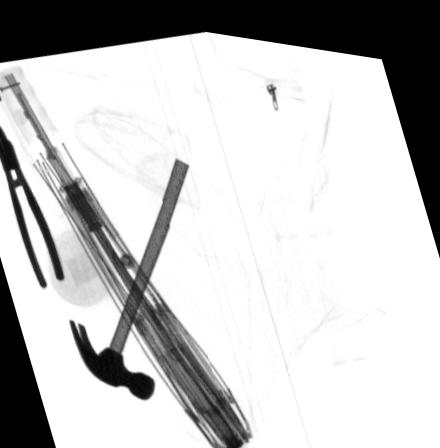Hammer: (67, 151, 189, 398)
Pliers: (0, 124, 64, 287)
